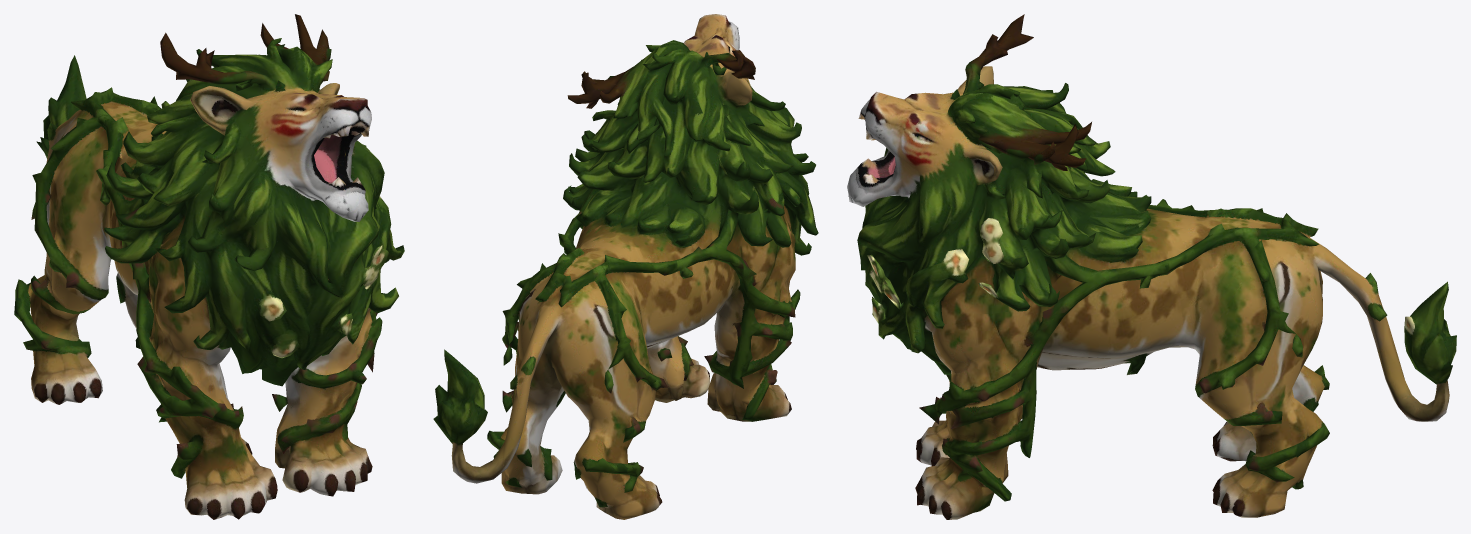
Rendered from thornmane_avatar_cheer.glb.
The picture shows the model from 3 angles, left to right: view 1: azimuth 30°, elevation 25°; view 2: azimuth 150°, elevation 25°; view 3: azimuth 270°, elevation 25°; orthographic projection. The views are drawn at different scales.
Parts seen in each view (by area): view 1: world; view 2: world; view 3: world.
Part boxes in pixels (x1,y1,x2,y2): world: (14,14,404,519); world: (433,14,818,519); world: (847,14,1456,519).
Bounding box in the file's own units: 0.4728 × 0.7812 × 0.9969.
Materials: 1 (1 with a texture image).
